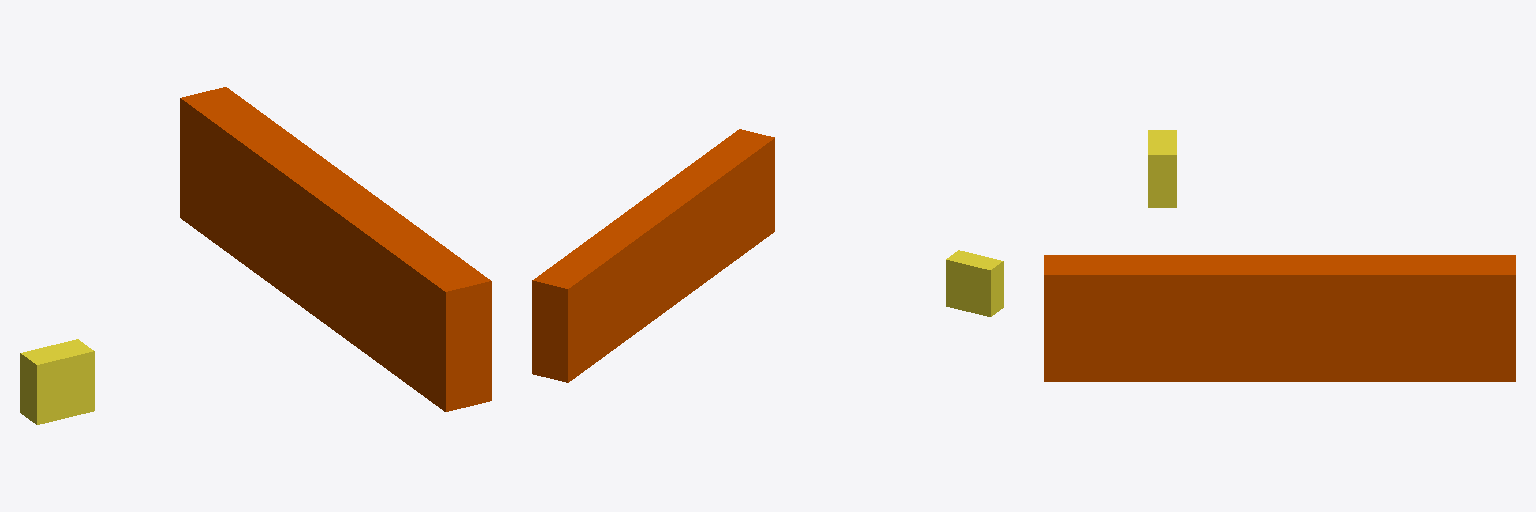
The robot description file, URDF, robot "planar_quadrotor":
<?xml version="1.0" ?>
<!-- =================================================================================== -->
<!-- |    This document was autogenerated by xacro from quadrotor_base.xacro           | -->
<!-- |    EDITING THIS FILE BY HAND IS NOT RECOMMENDED                                 | -->
<!-- =================================================================================== -->
<robot name="planar_quadrotor" xmlns:xacro="http://www.ros.org/wiki/xacro">

  <link name="link_x">
  </link>

  <link name="link_y">
  </link>

  <link name="link_theta">
  </link>


  <link name="base_link">
    <visual>
      <origin rpy="0 0 0" xyz="0 0 0"/>
      <geometry>
      <box size="0.5 0.25 0.5"/>
      </geometry>
    </visual>

    <collision>
      <origin rpy="0 0 0" xyz="0 0 0"/>
      <geometry>
      <box size="0.5 0.25 0.5"/>
      </geometry>
    </collision>
  </link>

  <link name="world">
  </link>

  <link name="obs1">
    <visual>
      <origin rpy="0 0 0" xyz="3 1 0"/>
      <geometry>
      <box size=".4 4 1"/>
      </geometry>
    </visual>

    <collision>
      <origin rpy="0 0 0" xyz="3 1 0"/>
      <geometry>
      <box size=".4 4 1"/>
      </geometry>
    </collision>

  </link>
  <!---->
  <!-- min: [0.0, 0.0] -->
  <!-- max: [3.0, 1.2] -->

  <!-- <joint name="myjoint" type="planar"> -->
  <!-- <parent link="world"/> -->
  <!-- <child link="base_link"/> -->
  <!-- </joint> -->
  <joint name="join_x" type="prismatic">
  <parent link="world"/>
  <child link="link_x"/>
  <axis xyz="1 0 0"/>
  <limit effort="1000.0" lower="0.0" upper="3.0" velocity="1.0"/>
  </joint>

  <joint name="join_y" type="prismatic">
    <parent link="link_x"/>
    <child link="link_y"/>
    <axis xyz="0 1 0"/>
  <limit effort="1000.0" lower="0.0" upper="1.2" velocity="1.0"/>
  </joint>

  <joint name="join_theta" type="revolute">
    <parent link="link_y"/>
    <child link="link_theta"/>
    <axis xyz="0 0 1"/>
    <limit effort="1000.0" lower="-3.14159265359" upper= "3.14159265359" velocity="1.0"/>
  </joint>

  <joint name="join_base" type="fixed">
    <parent link="link_theta"/>
    <child link="base_link"/>
  </joint>

  <joint name="obs1_j" type="fixed">
  <parent link="world"/>
  <child link="obs1"/>
  </joint>


</robot>

--- What the picture shows (computed from the rendered views, not written in the file) ---
The picture shows the robot from 3 angles, left to right: view 1: azimuth 30°, elevation 25°; view 2: azimuth 150°, elevation 25°; view 3: azimuth 270°, elevation 25°; orthographic projection.
Model planar_quadrotor with 6 links and 5 joints (1 revolute, 2 prismatic, 2 fixed), rooted at world, posed all joints at 0.
Links seen in each view (by area): view 1: obs1, base_link; view 2: obs1, base_link; view 3: obs1, base_link.
Link boxes in pixels (x1,y1,x2,y2): obs1: (180, 87, 491, 411); base_link: (20, 339, 94, 424); obs1: (532, 129, 774, 382); base_link: (946, 250, 1003, 316); obs1: (1044, 255, 1515, 381); base_link: (1148, 130, 1176, 207).
Size in the robot's own frame: 3.45 by 4 by 1 metres.
Geometry: primitives only (box / cylinder / sphere), no mesh files.